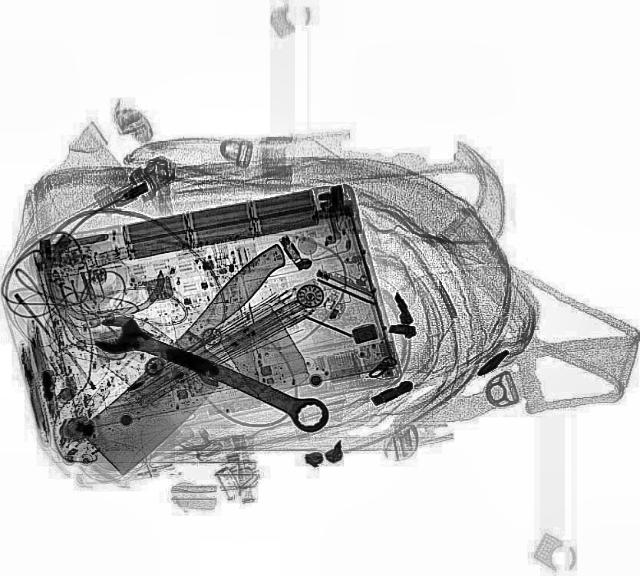Knife: (64, 240, 330, 478)
Wrench: (85, 305, 335, 443)
